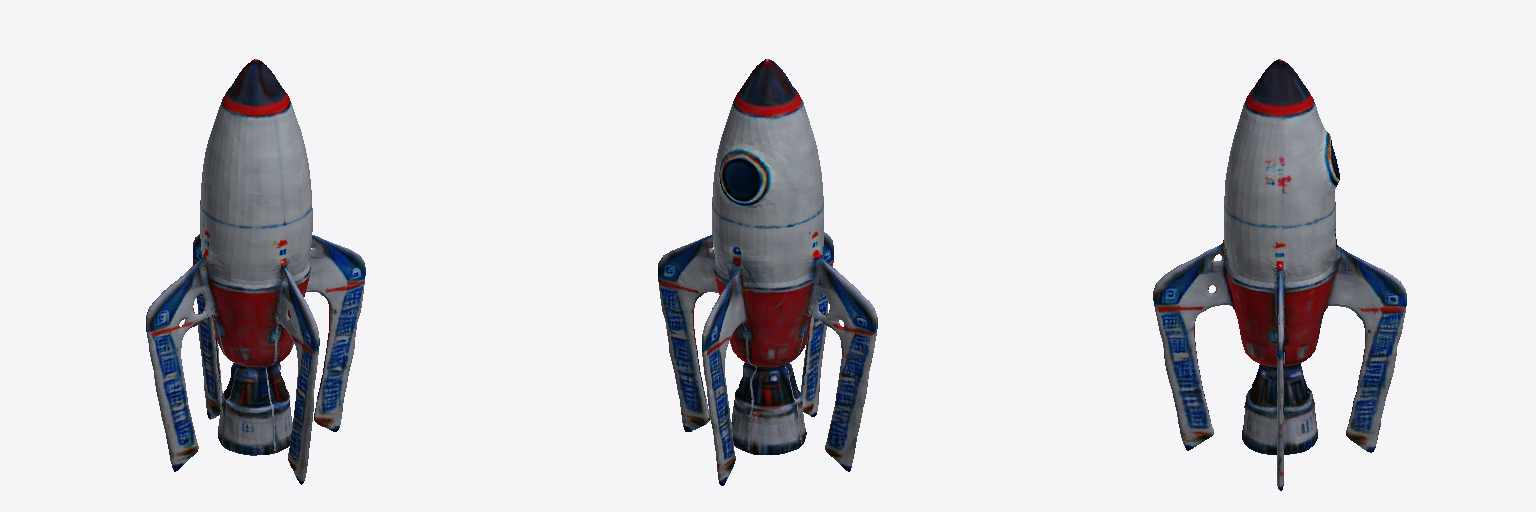
The picture shows the model from 3 angles: view 1: azimuth 30°, elevation 25°; view 2: azimuth 150°, elevation 25°; view 3: azimuth 270°, elevation 25°; orthographic projection.
Parts seen in each view (by area): view 1: mesh; view 2: mesh; view 3: mesh.
Part boxes in pixels (bbox=[...]): mesh: bbox=[146, 59, 365, 484]; mesh: bbox=[658, 59, 877, 485]; mesh: bbox=[1153, 59, 1406, 490].
Size of the model in its own units: 0.5833 by 0.9971 by 0.5846.
Materials: 1 (1 with a texture image).